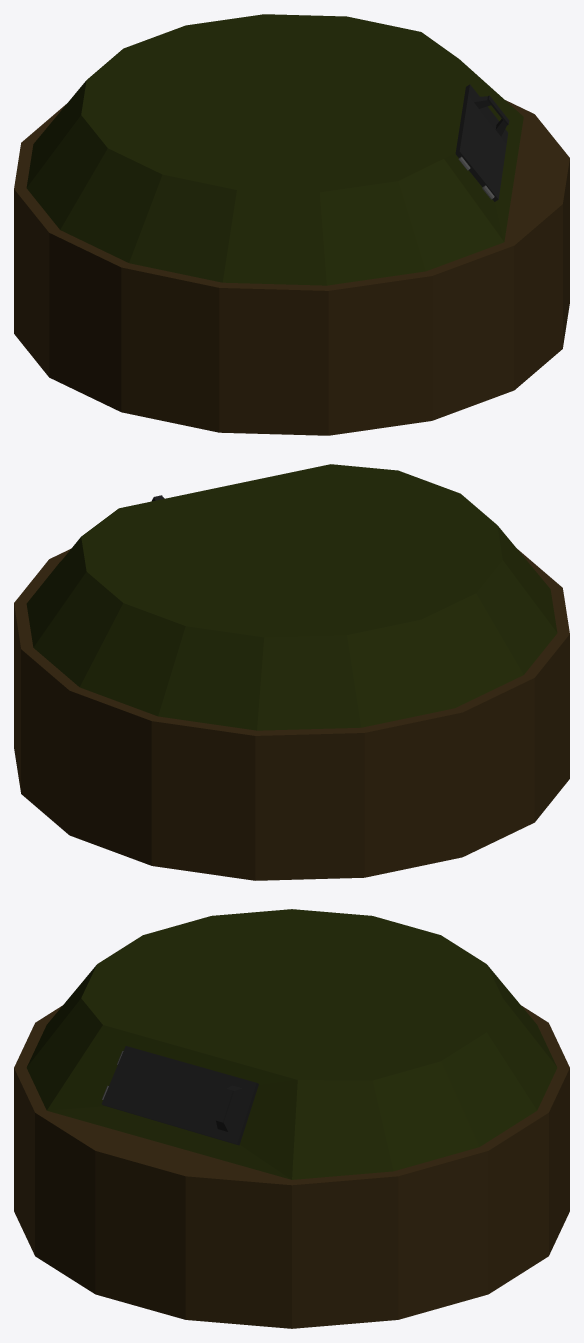
The model's file is StatueBase.fbx.
The picture shows the model from 3 angles, top to bottom: view 1: azimuth 30°, elevation 25°; view 2: azimuth 150°, elevation 25°; view 3: azimuth 270°, elevation 25°; orthographic projection.
Visible parts, largest first — view 1: Cylinder, Cylinder.001; view 2: Cylinder; view 3: Cylinder, Cylinder.001.
Boxes of the visible parts, <box> form: Cylinder: <box>14,14,569,435</box>; Cylinder.001: <box>455,84,509,201</box>; Cylinder: <box>14,464,569,880</box>; Cylinder: <box>14,909,569,1328</box>; Cylinder.001: <box>101,1046,258,1145</box>.
Size of the model in its own units: 200 by 84.85 by 200.
